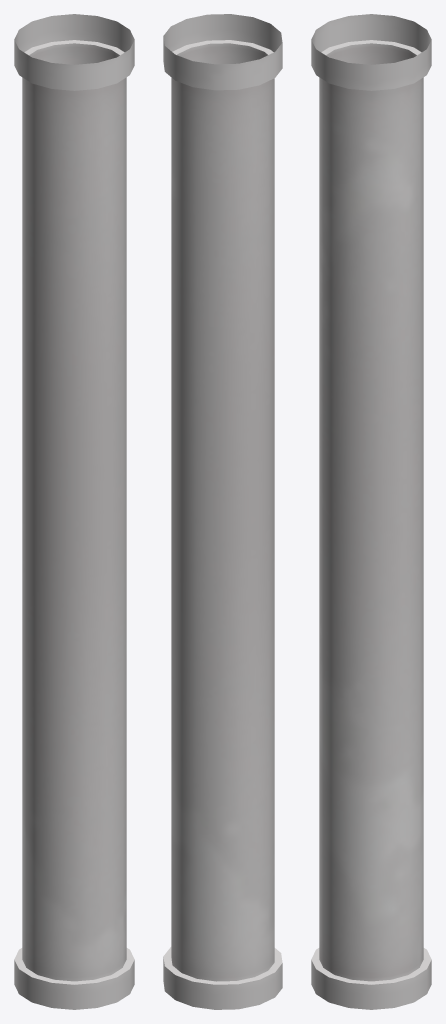
Rendered from Pipe2.fbx.
3 views of the same model, side by side, from view 1: azimuth 90°, elevation 25°; view 2: azimuth 150°, elevation 25°; view 3: azimuth 270°, elevation 25° (orthographic).
Parts seen in each view (by area): view 1: Mat_Pipe_01 4; view 2: Mat_Pipe_01 4; view 3: Mat_Pipe_01 4.
Boxes of the visible parts, x1,y1,x2,y2 form: Mat_Pipe_01 4: (14, 14, 134, 1009); Mat_Pipe_01 4: (163, 14, 282, 1009); Mat_Pipe_01 4: (311, 14, 431, 1009).
Size of the model in its own units: 0.3455 by 2.99 by 0.3455.
1 material, 1 textured.
